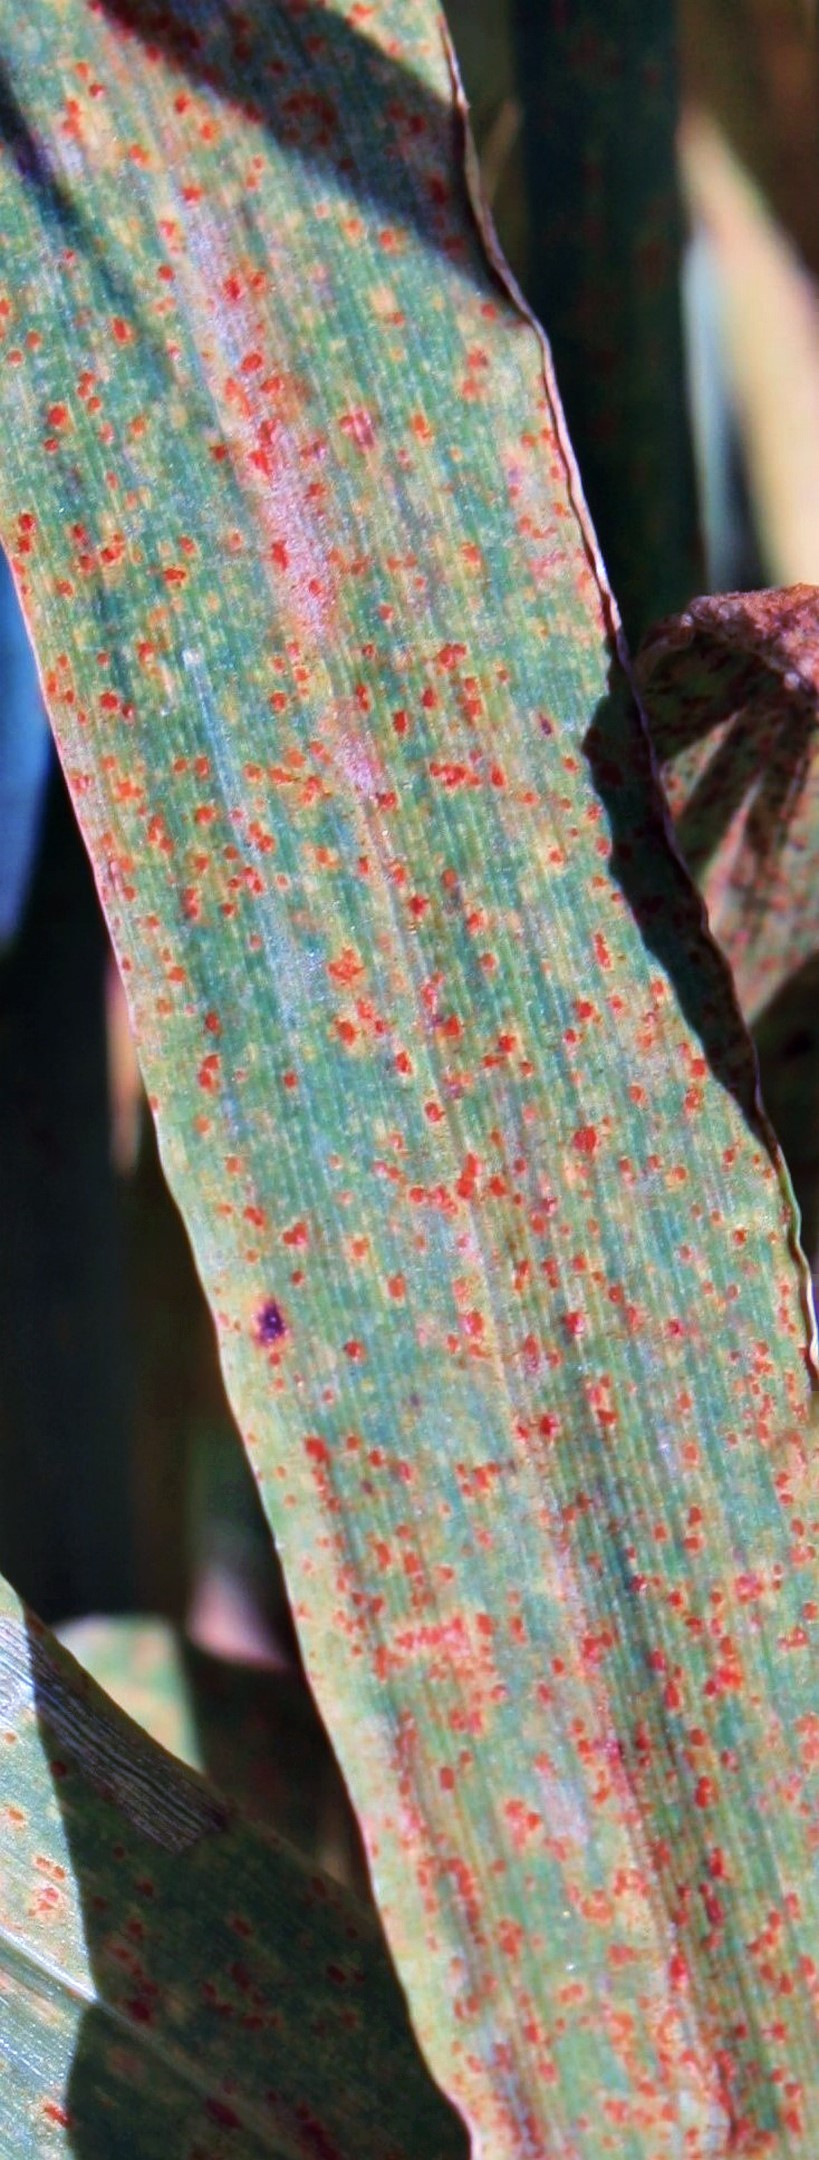Leaf Rust: (22, 219, 819, 2057)
